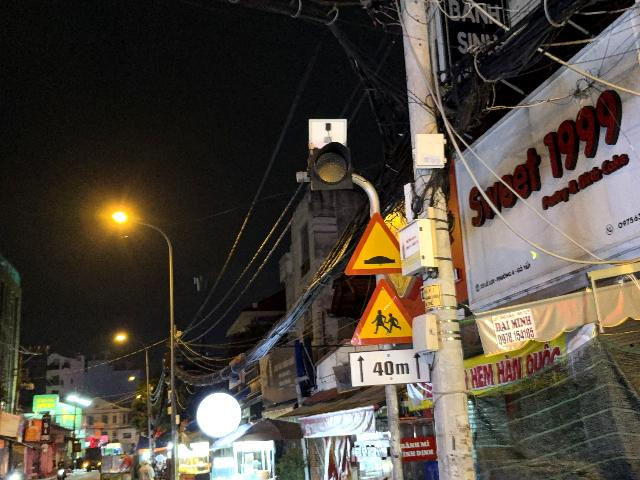duong-co-go-giam-toc: (345, 212, 401, 275)
tre-em-qua-duong: (351, 278, 413, 346)
